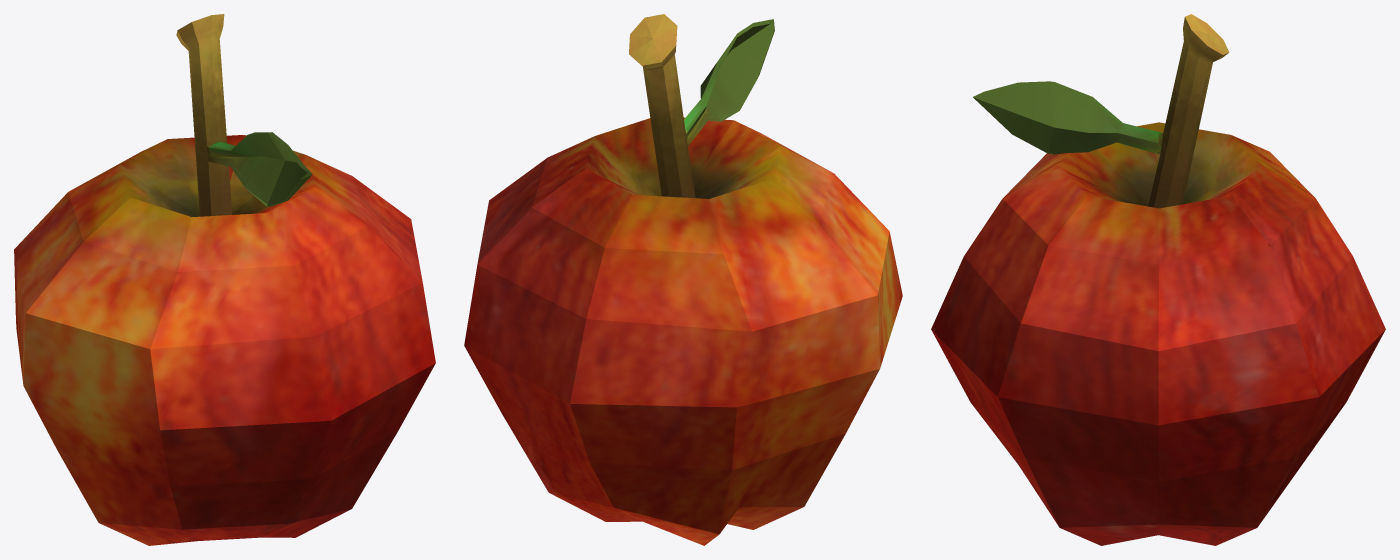
File: apple_sketchfab.fbx
The picture shows the model from 3 angles, left to right: view 1: azimuth 30°, elevation 25°; view 2: azimuth 150°, elevation 25°; view 3: azimuth 270°, elevation 25°; orthographic projection.
Parts seen in each view (by area): view 1: apple; view 2: apple; view 3: apple.
Part boxes in pixels (left/top/right/bottom): apple: left=14, top=14, right=435, bottom=545; apple: left=464, top=14, right=902, bottom=545; apple: left=931, top=14, right=1385, bottom=545.
Bounding box in the file's own units: 6.02 × 7.42 × 6.02.
